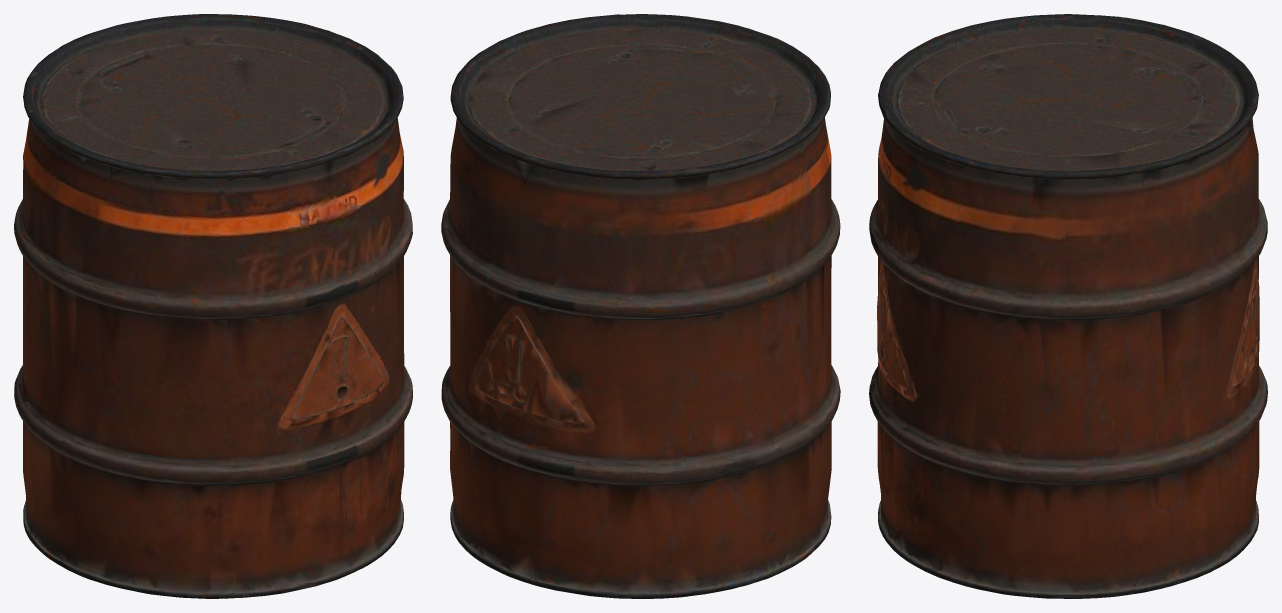
The model's file is barrel.glb.
3 views of the same model, side by side, from view 1: azimuth 30°, elevation 25°; view 2: azimuth 150°, elevation 25°; view 3: azimuth 270°, elevation 25° (orthographic).
Bounding box in the file's own units: 1.62 × 1.9 × 1.62.
Materials: 1 (1 with a texture image).
